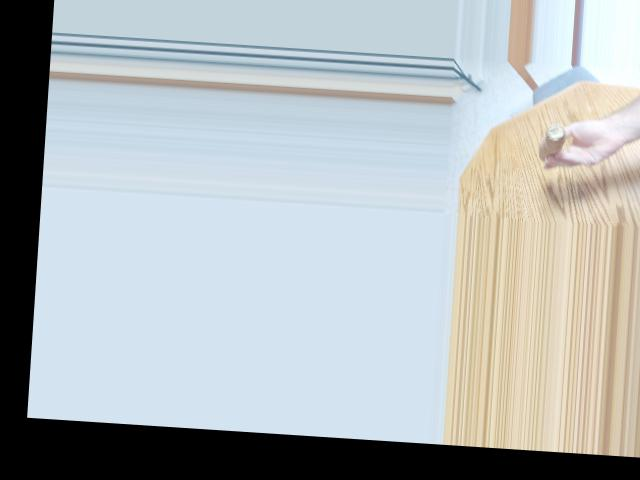sweet_potato: (537, 117, 573, 164)
